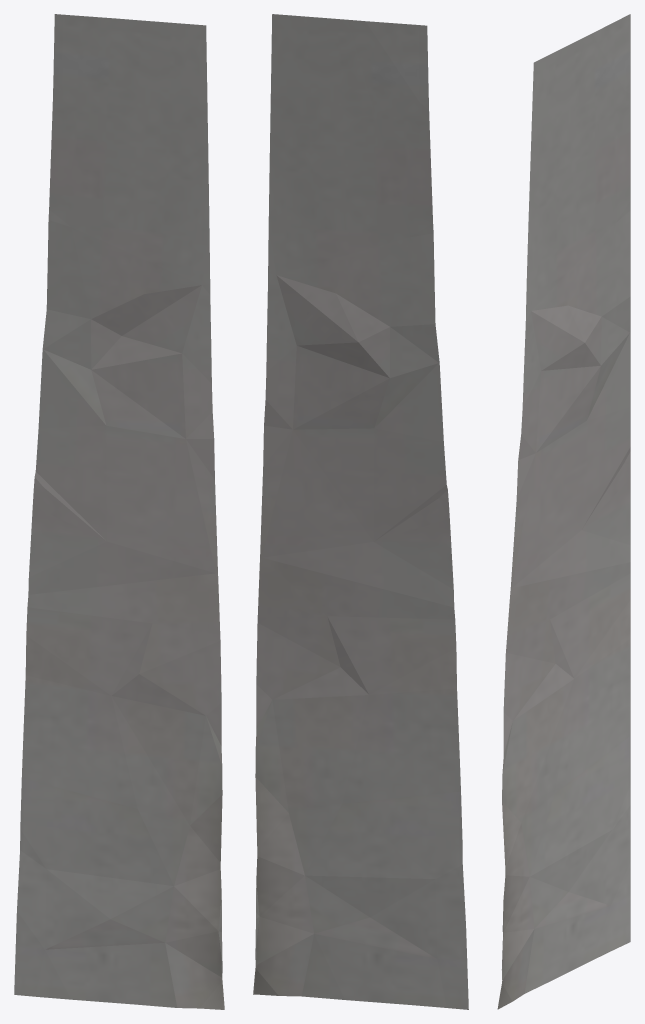
The picture shows the model from 3 angles, left to right: view 1: azimuth 30°, elevation 25°; view 2: azimuth 210°, elevation 25°; view 3: azimuth 270°, elevation 25°; orthographic projection. The views are drawn at different scales.
Bounding box in the file's own units: 0.2572 × 1.67 × 0.2131.
Materials: 1 (1 with a texture image).
